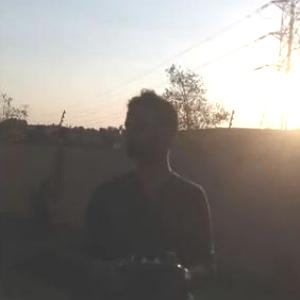follow: (80, 85, 218, 299)
